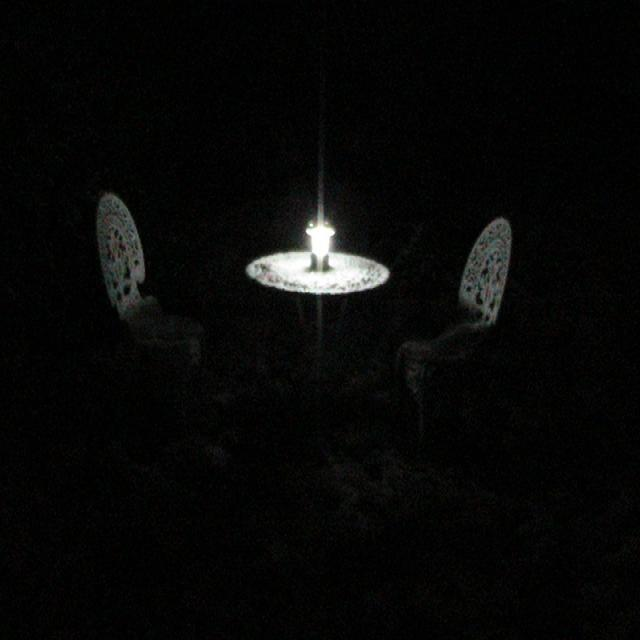Table: (244, 223, 394, 408)
chair: (93, 166, 215, 490), (375, 222, 540, 454)
